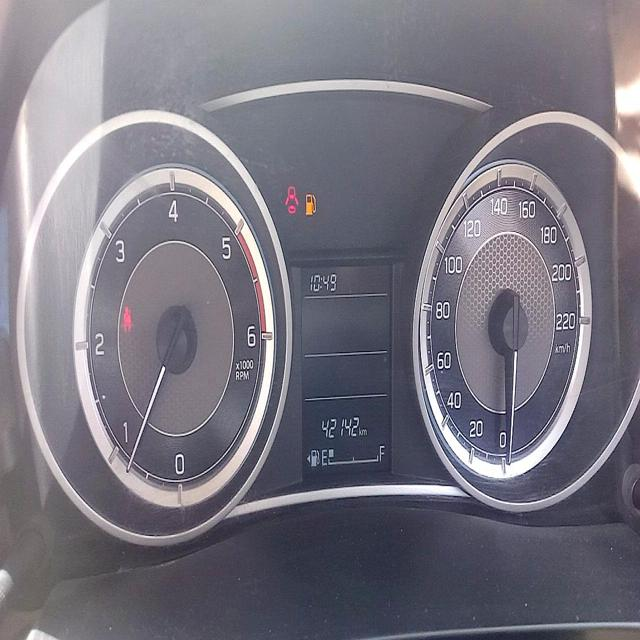odometer: (320, 413, 360, 439)
